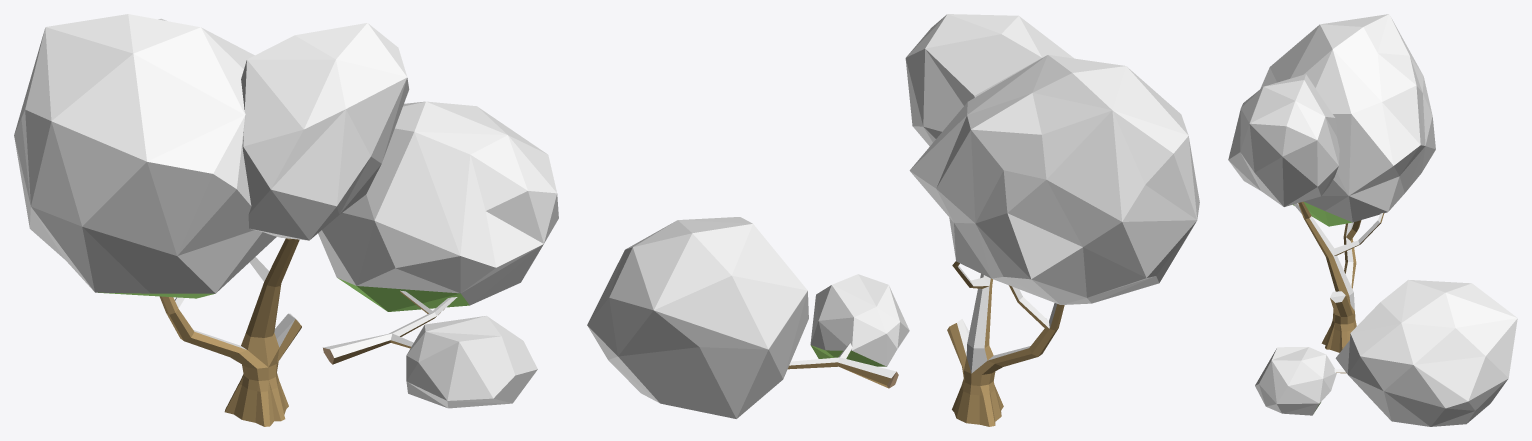
File: Oak_Tree_crk_l_Snow_01.fbx
3 renders of one model, left to right at view 1: azimuth 30°, elevation 25°; view 2: azimuth 150°, elevation 25°; view 3: azimuth 270°, elevation 25°, orthographic. The views are drawn at different scales.
Visible parts, largest first — view 1: Oak_Tree_crk_l_Snow_01; view 2: Oak_Tree_crk_l_Snow_01; view 3: Oak_Tree_crk_l_Snow_01.
Part boxes in pixels (x1,y1,x2,y2): Oak_Tree_crk_l_Snow_01: (14, 14, 558, 426); Oak_Tree_crk_l_Snow_01: (587, 14, 1199, 426); Oak_Tree_crk_l_Snow_01: (1228, 14, 1517, 426).
Bounding box in the file's own units: 1643 × 1148 × 1053.
